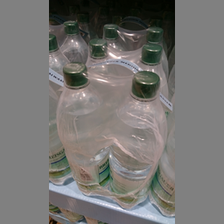water: (106, 70, 166, 210), (55, 60, 108, 196)
